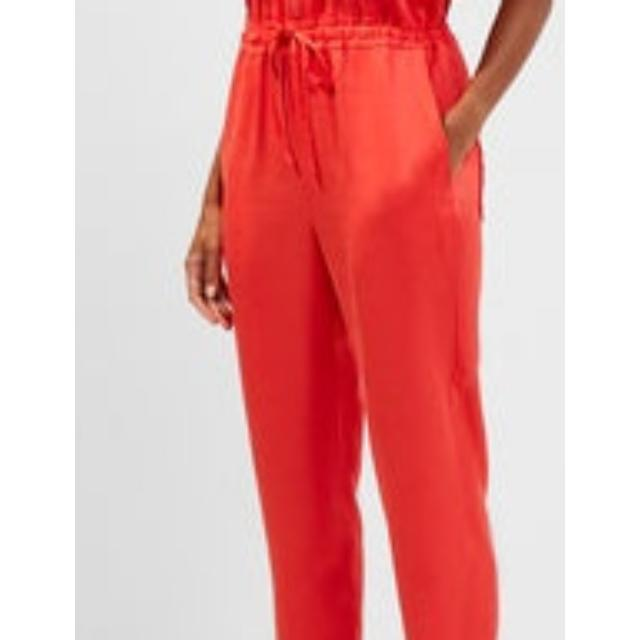silk: (249, 0, 495, 640)
